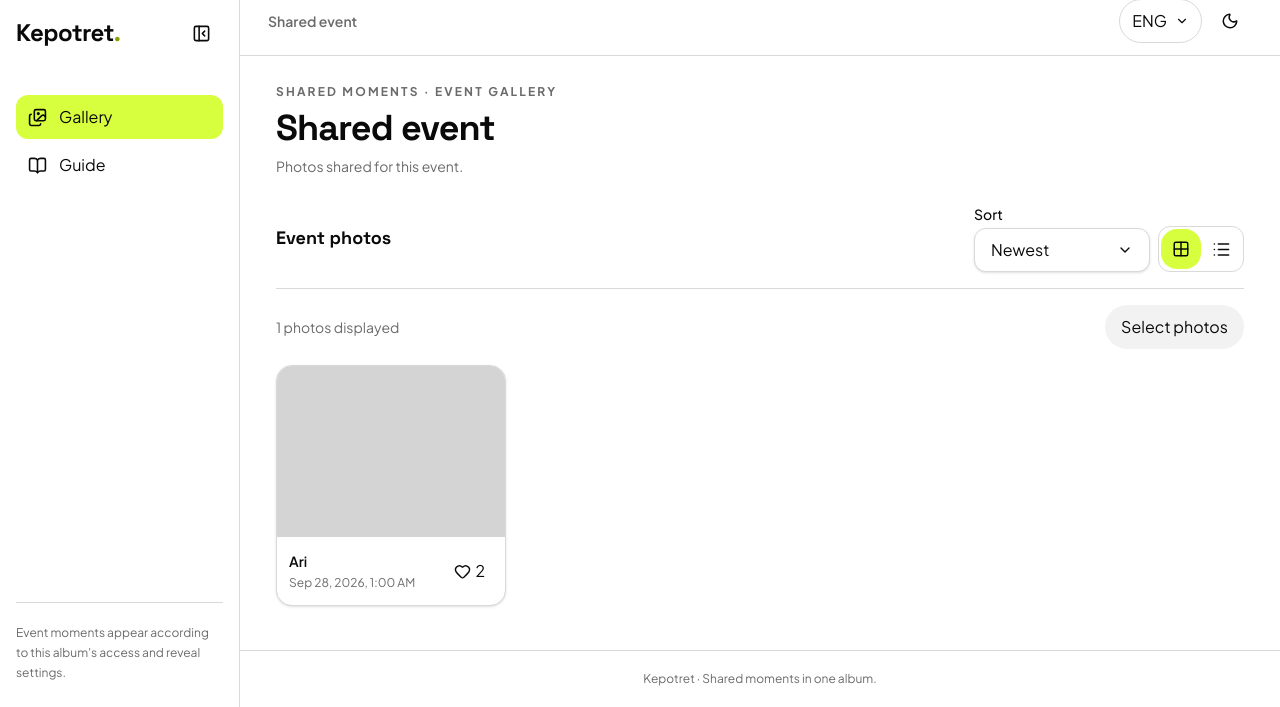
Test case: guest gallery › drops a selected photo when an action response revokes its download permission
Click the button "Select photos" at (1175, 327), box [1105,305,1244,349]
(page scrolled)
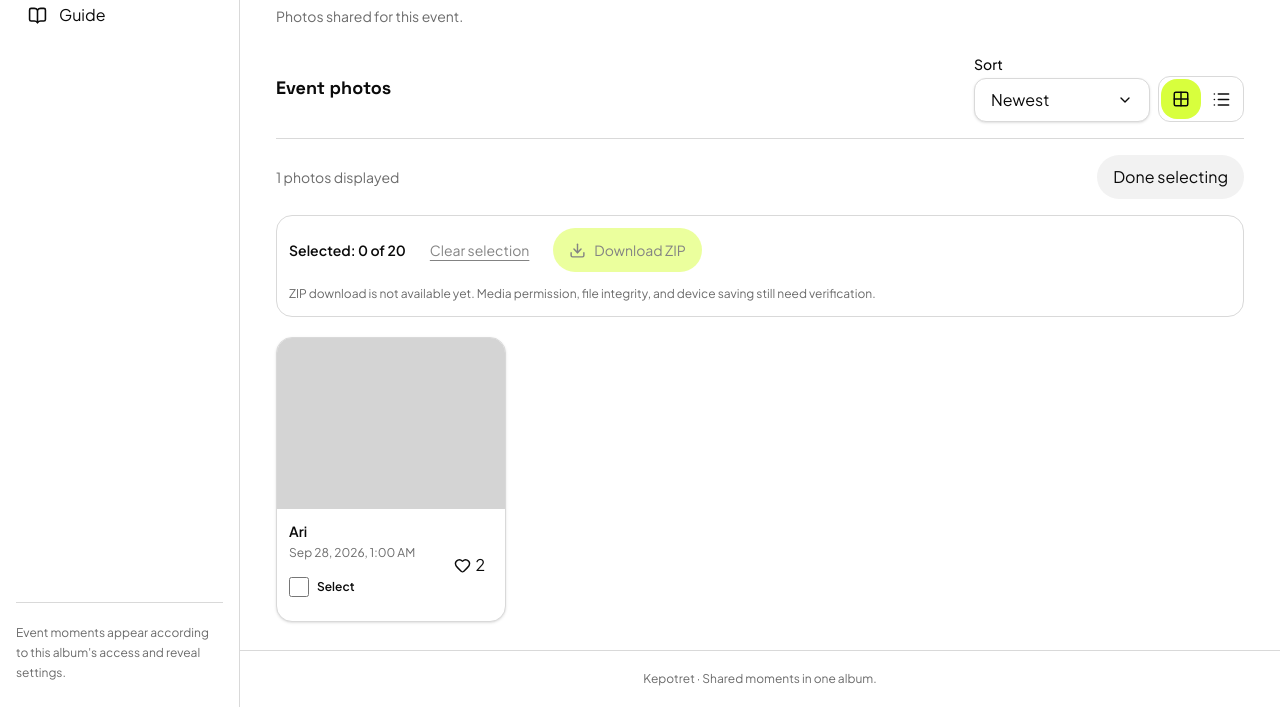
Click the checkbox named "Select photo by Ari" at (299, 587), box [289,577,309,597]
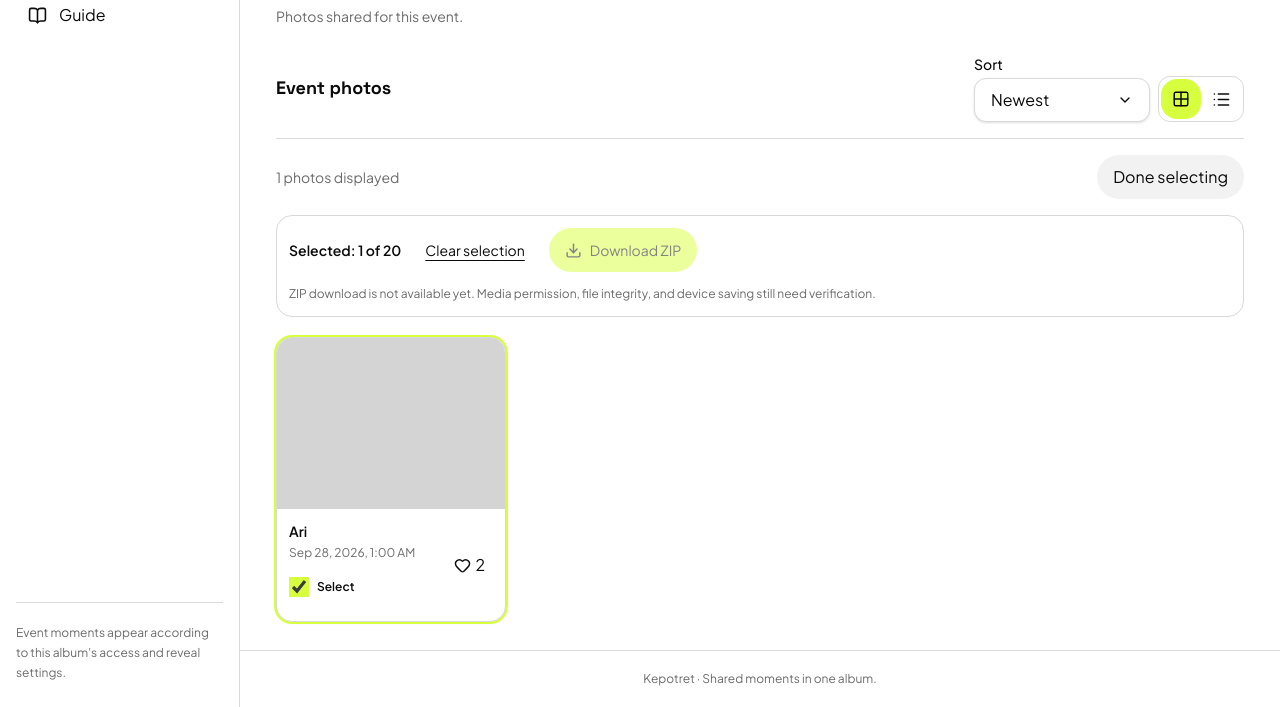
Expected: the text "Selected: 1 of 20" is shown, [289,240,401,260]
Click the button named "Like photo" at (470, 565), box [446,543,493,587]
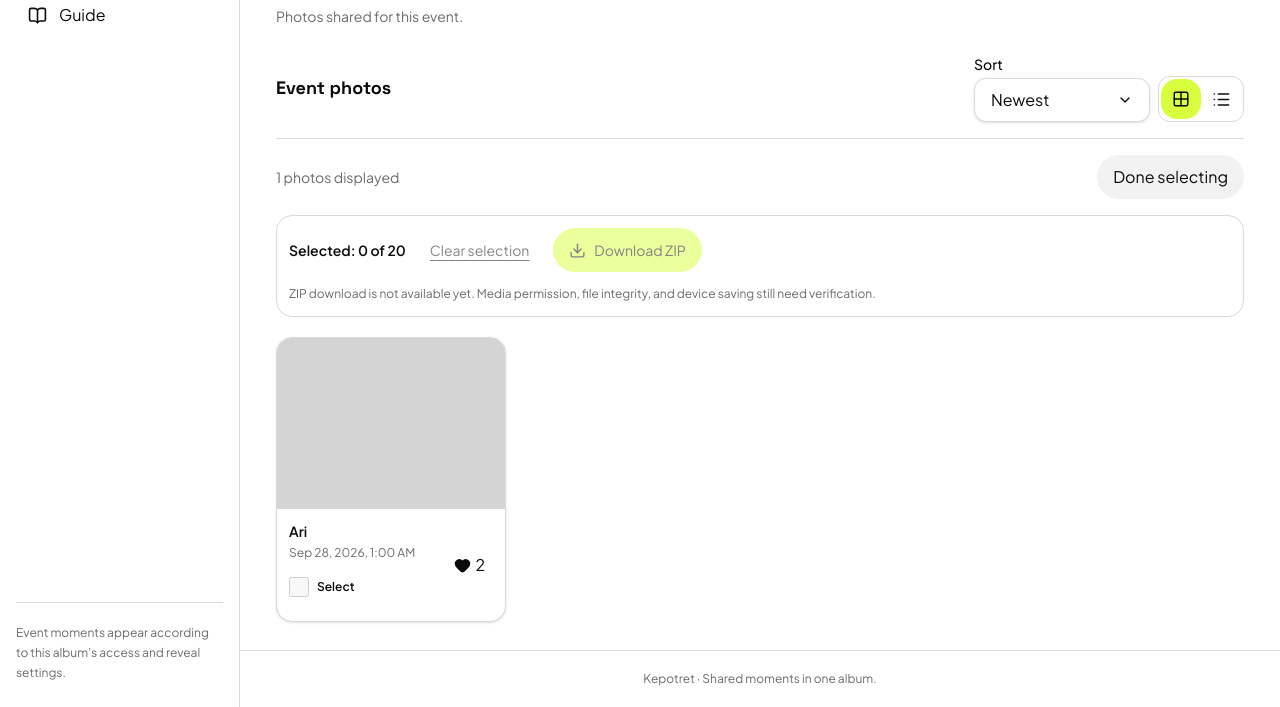
Expected: the text "Selected: 0 of 20" is shown, [289,240,406,260]
Expected: the checkbox named "Select photo by Ari" is disabled, [289,577,309,597]
